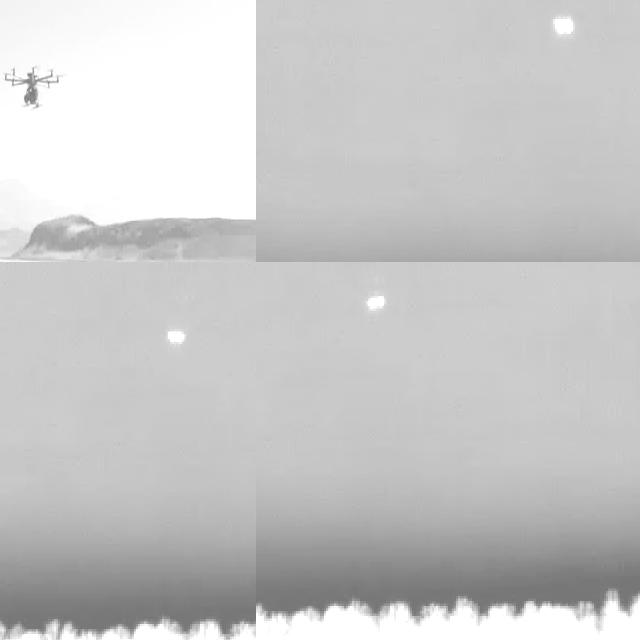1: (547, 15, 583, 45), (160, 326, 196, 356), (359, 292, 395, 322)
drone: (2, 57, 63, 112)
